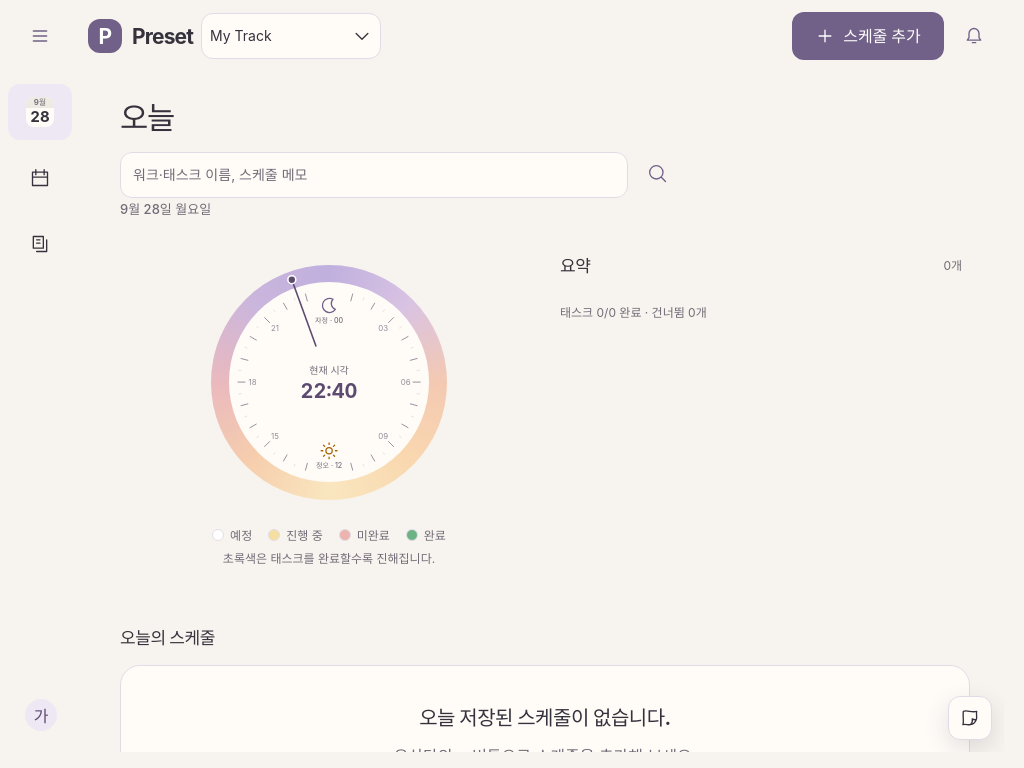
app settings › clears navigation selection and returns to the same /today destination
The width and height of the screenshot is (1024, 768).
Click the button named "가상 계정".
click(40, 715)  # box x1=8 y1=690 x2=72 y2=740
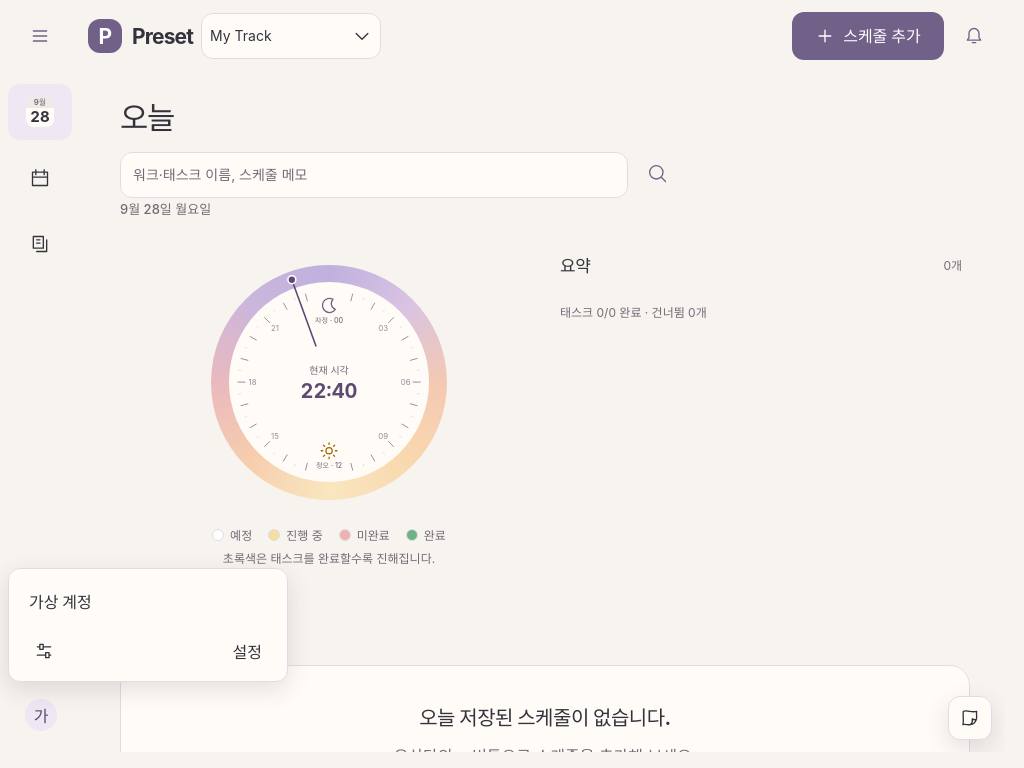
Click the button "설정".
click(44, 651)  # box x1=17 y1=629 x2=279 y2=673
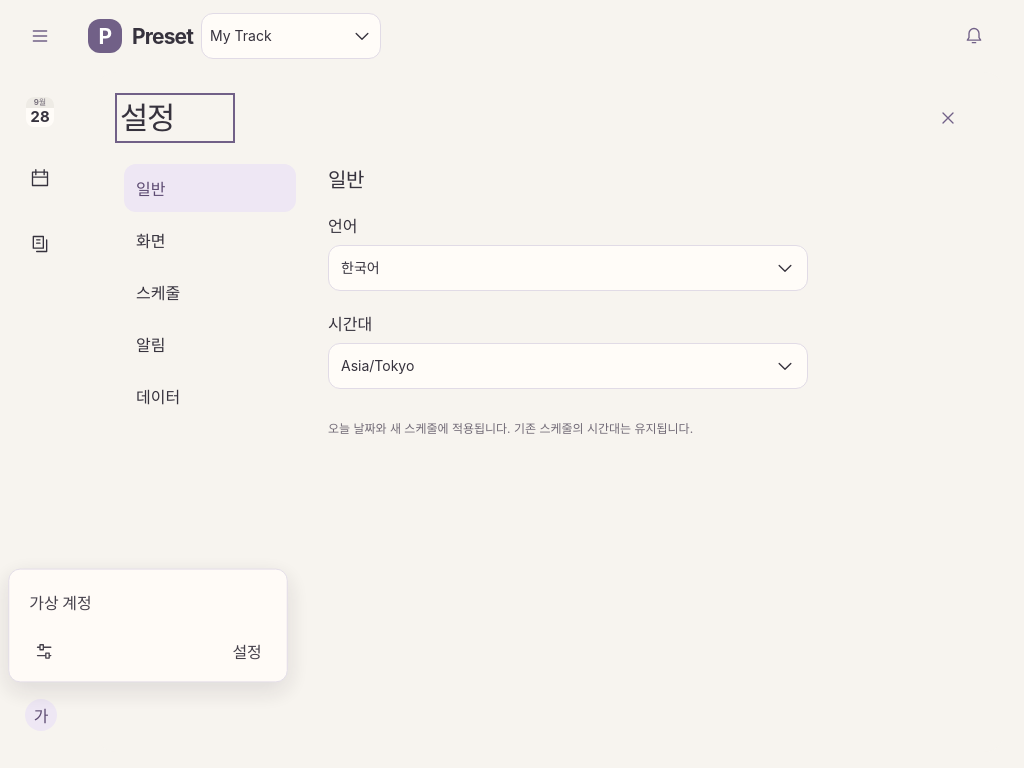
Click the link named "당일 요약".
click(40, 112)  # box x1=26 y1=97 x2=54 y2=127
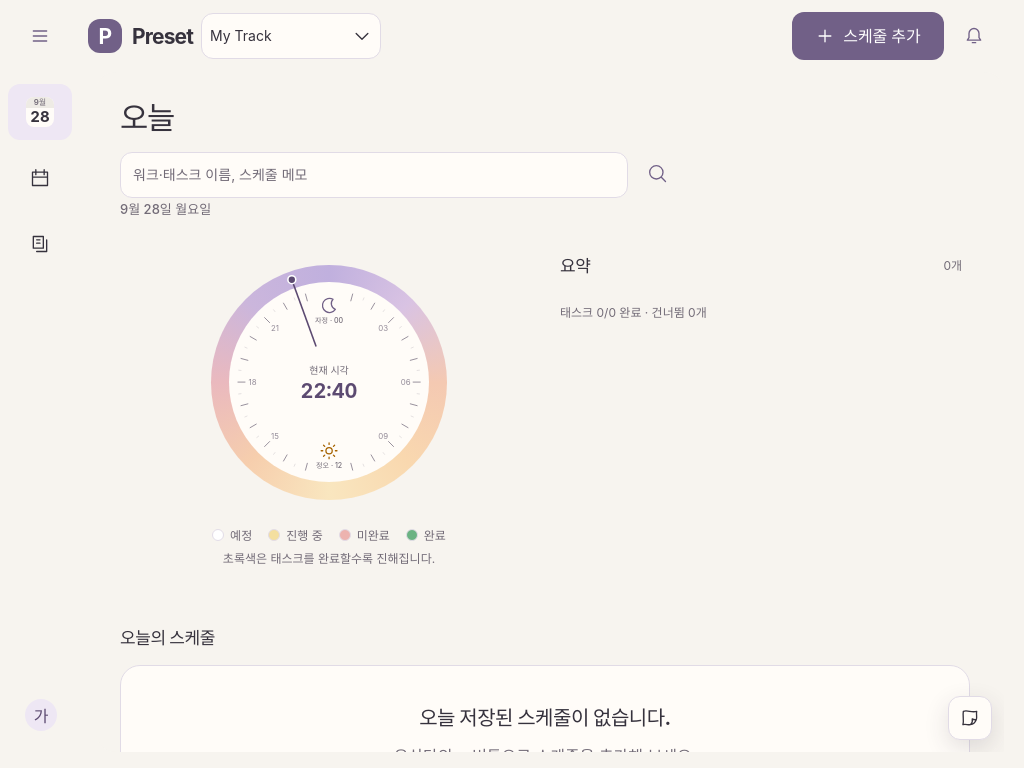
Expected: the button "설정" is gone
